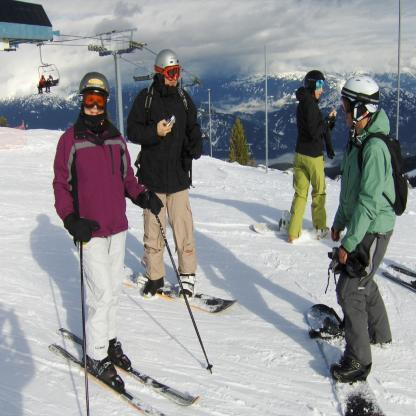Helmet: (342, 73, 386, 137), (74, 71, 110, 136), (149, 44, 183, 92), (302, 67, 329, 92)
